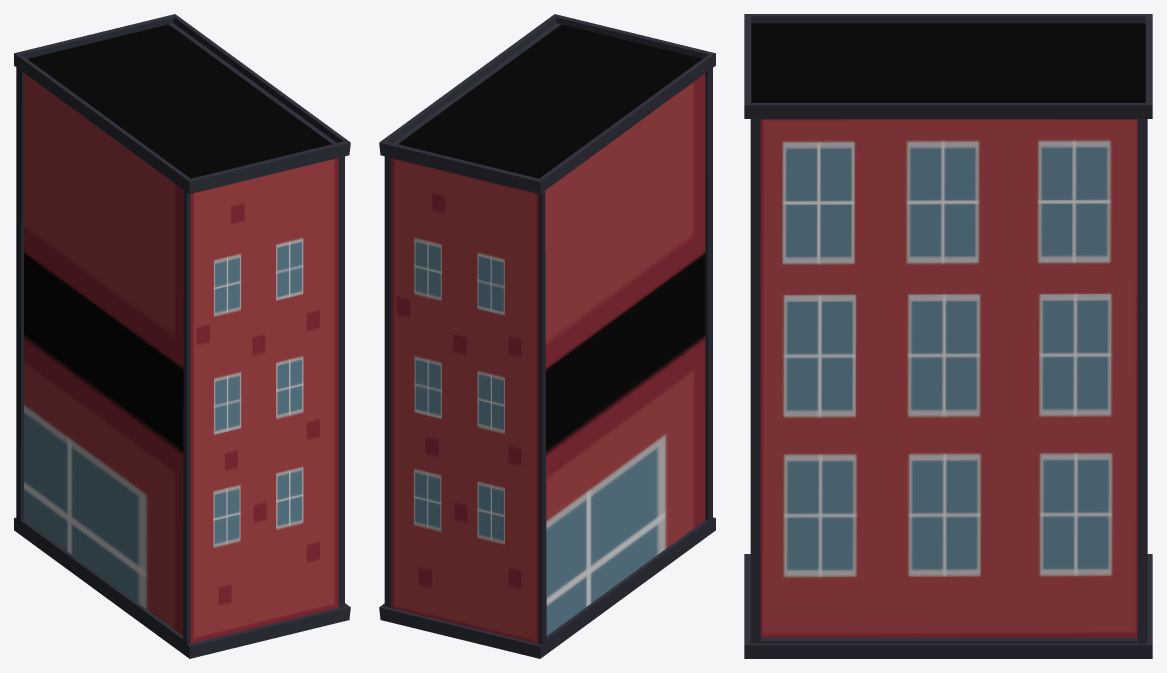
Rendered from red house.fbx.
3 renders of one model, left to right at view 1: azimuth 30°, elevation 25°; view 2: azimuth 150°, elevation 25°; view 3: azimuth 270°, elevation 25°, orthographic. The views are drawn at different scales.
Visible parts, largest first — view 1: Cube.006; view 2: Cube.006; view 3: Cube.006.
Boxes of the visible parts, box(x1,y1,x2,y2) form: Cube.006: box(14, 14, 350, 658); Cube.006: box(379, 14, 715, 658); Cube.006: box(744, 14, 1152, 658).
Bounding box in the file's own units: 218 × 617 × 411.
